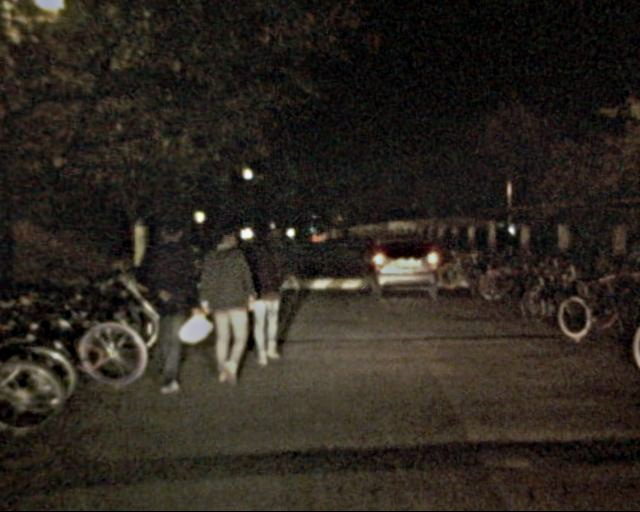person: (132, 213, 205, 398), (185, 222, 256, 387), (231, 223, 292, 370), (257, 224, 293, 312)
